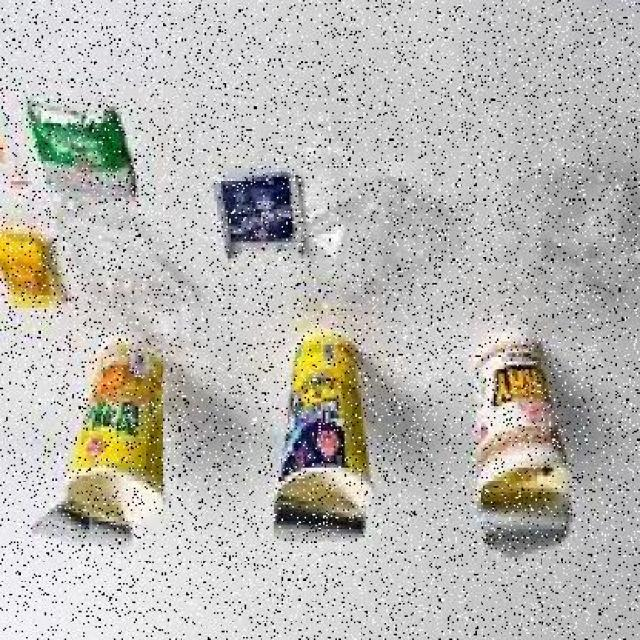Miscellaneous: (262, 322, 378, 538), (452, 348, 577, 546), (65, 324, 173, 546)
